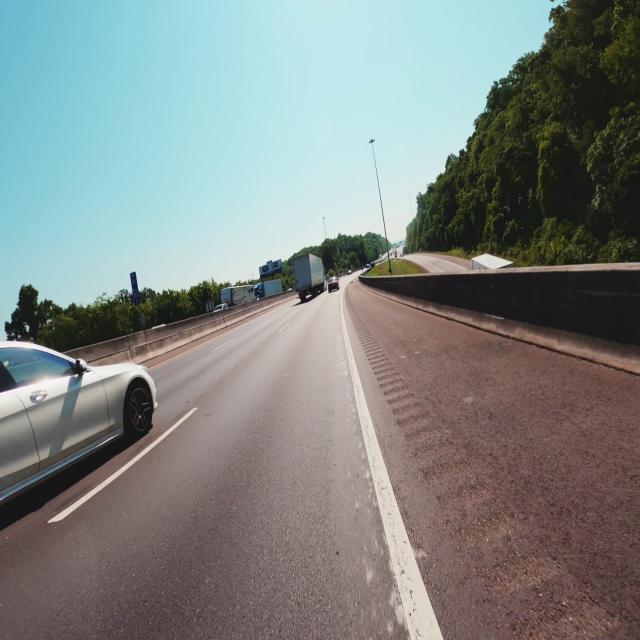car: (0, 342, 156, 501), (328, 277, 339, 292)
